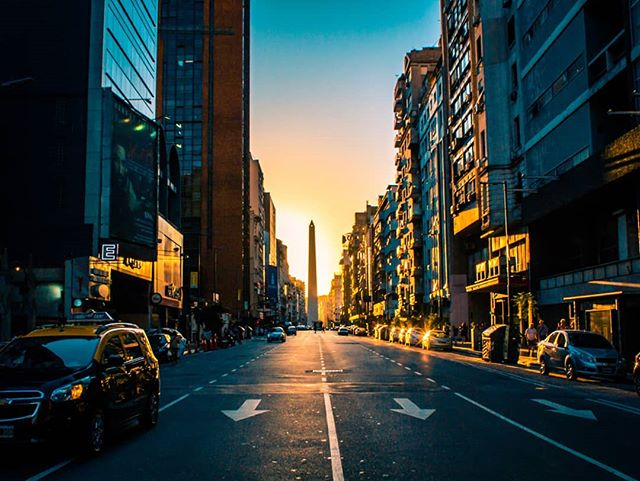building: (454, 1, 640, 337), (1, 1, 155, 312), (153, 1, 265, 315), (397, 66, 453, 326), (368, 189, 400, 303), (297, 205, 327, 322), (335, 218, 372, 309)
car: (1, 318, 162, 470), (531, 325, 633, 383), (262, 322, 288, 345)
sky: (266, 1, 400, 234)
street: (33, 331, 625, 481)
